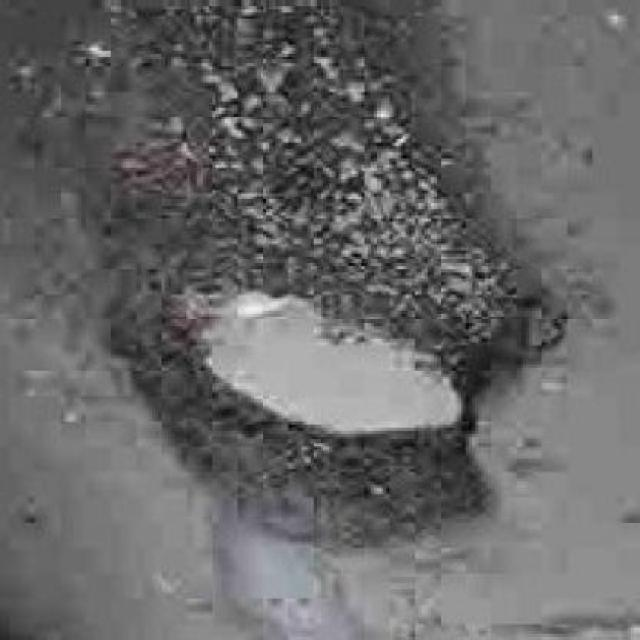pothole: (94, 4, 564, 561)
